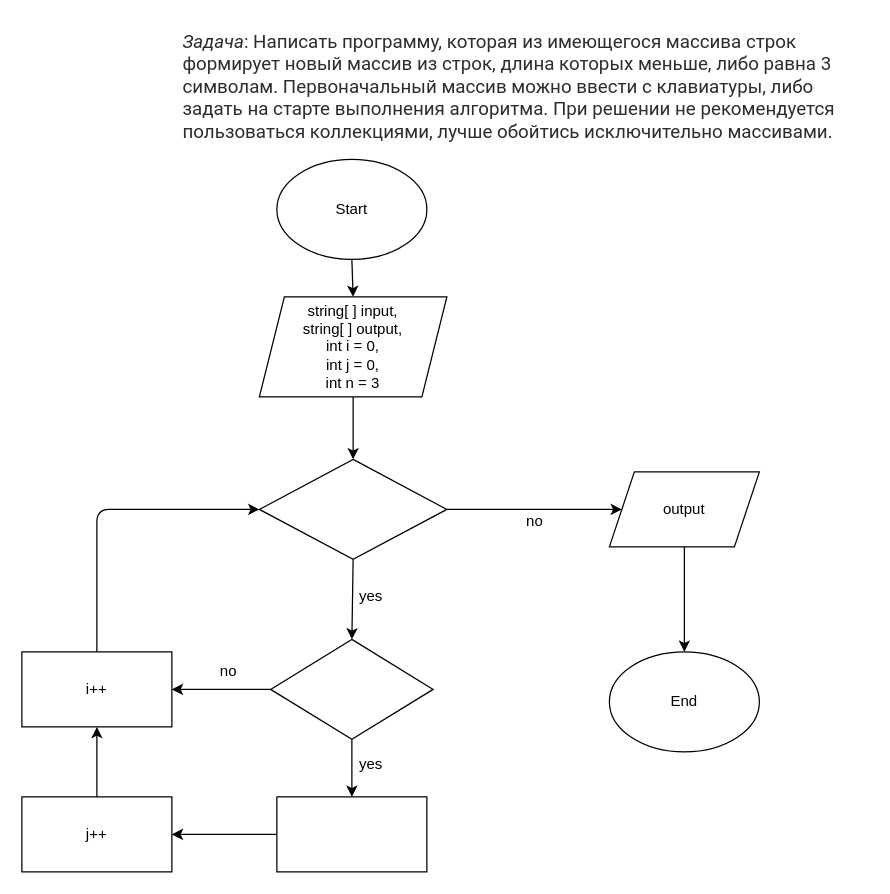
Image size: 890x894. Some labels were removed from this diagram. The shapes that lost their labels are listed below. From the top down, each one's box as (x1, y1, x2, y2) in pixels, then its label:
(258, 458, 447, 559): i < input.Length
(269, 638, 433, 739): input[i]Lengt <= n
(276, 796, 427, 872): output[j] = input[i]
